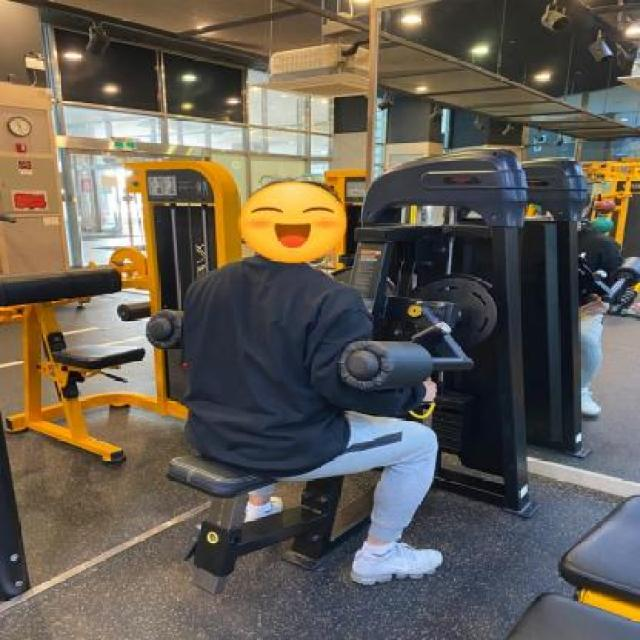lateral raises machine: (145, 258, 544, 594)
